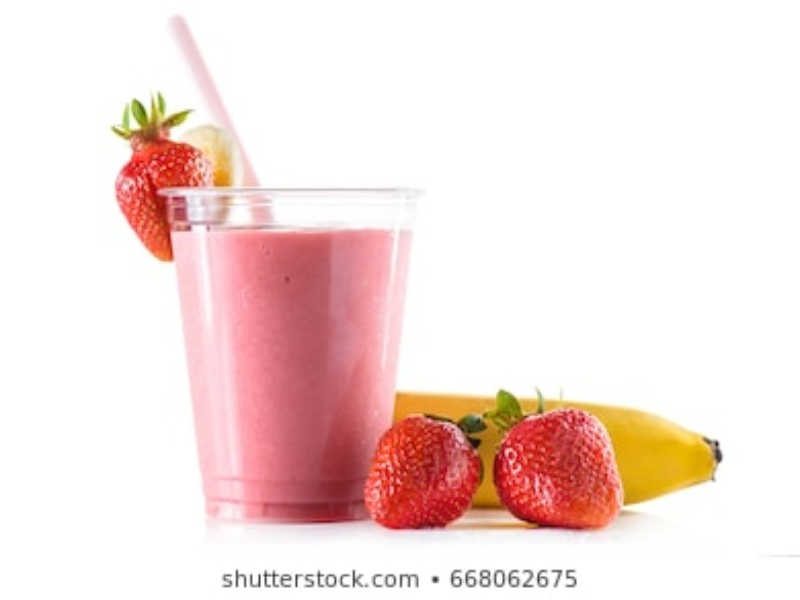plastic-cup: (156, 175, 428, 531)
straw: (158, 11, 280, 228)
